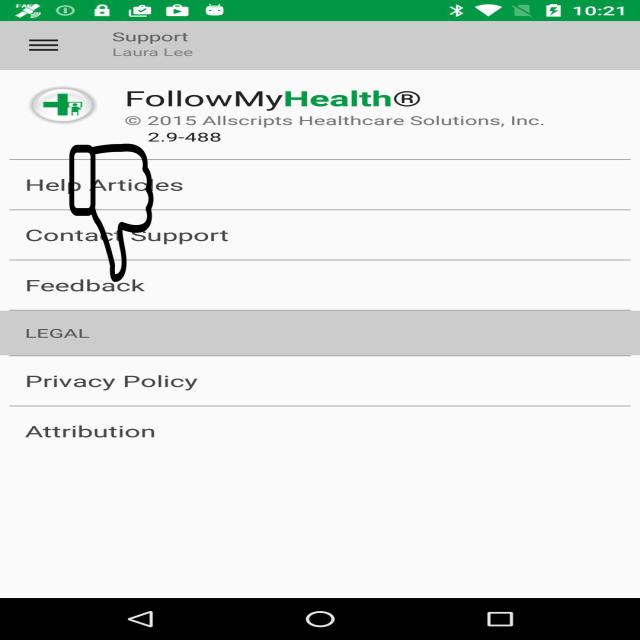obstruction: (68, 144, 155, 282)
